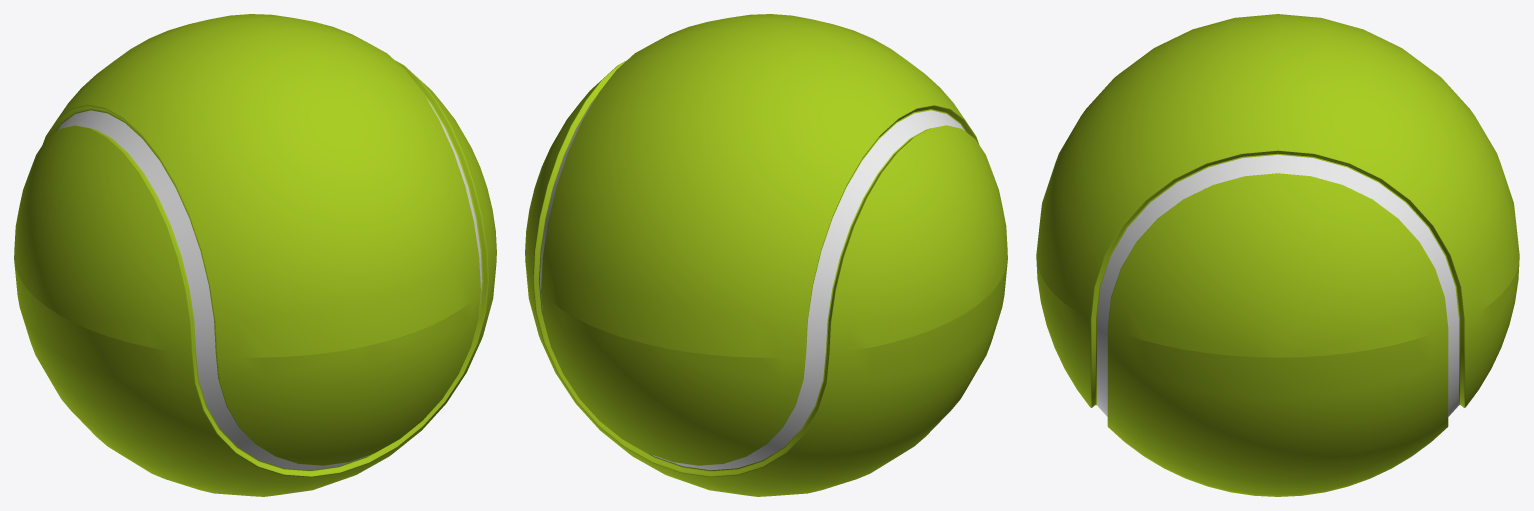
File: Bolad e tenis.fbx
The picture shows the model from 3 angles, left to right: view 1: azimuth 30°, elevation 25°; view 2: azimuth 150°, elevation 25°; view 3: azimuth 270°, elevation 25°; orthographic projection.
Visible parts, largest first — view 1: polySurface245, polySurface244; view 2: polySurface245, polySurface244; view 3: polySurface245, polySurface244.
Part boxes in pixels (<box>): polySurface245: <box>14,14,496,496</box>; polySurface244: <box>57,99,482,470</box>; polySurface245: <box>525,14,1007,496</box>; polySurface244: <box>539,99,964,470</box>; polySurface245: <box>1036,14,1519,496</box>; polySurface244: <box>1097,155,1458,416</box>.
Bounding box in the file's own units: 0.1069 × 0.1069 × 0.1069.
2 materials, 1 textured.
